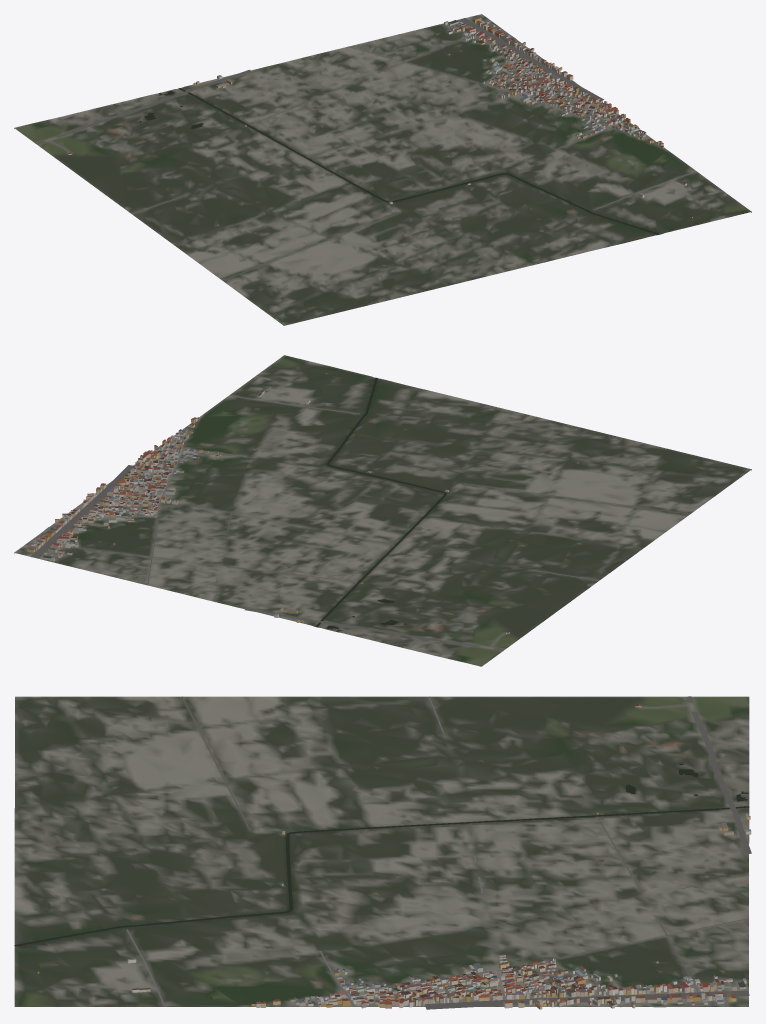
The picture shows the model from 3 angles, top to bottom: view 1: azimuth 30°, elevation 25°; view 2: azimuth 150°, elevation 25°; view 3: azimuth 270°, elevation 25°; orthographic projection. The views are drawn at different scales.
Visible parts, largest first — view 1: ground, buildings, roads, water; view 2: ground, buildings, roads, water; view 3: ground, buildings, roads, water.
Part boxes in pixels (<box>): ground: <box>14,14,751,325</box>; buildings: <box>68,17,692,217</box>; roads: <box>35,18,696,280</box>; water: <box>139,88,659,234</box>; ground: <box>14,355,751,666</box>; buildings: <box>27,372,509,633</box>; roads: <box>22,395,689,650</box>; water: <box>315,377,446,631</box>; ground: <box>14,696,749,1006</box>; buildings: <box>37,704,751,1009</box>; roads: <box>126,696,751,1009</box>; water: <box>14,763,749,946</box>.
Size of the model in its own units: 1414 by 17.07 by 1409.
